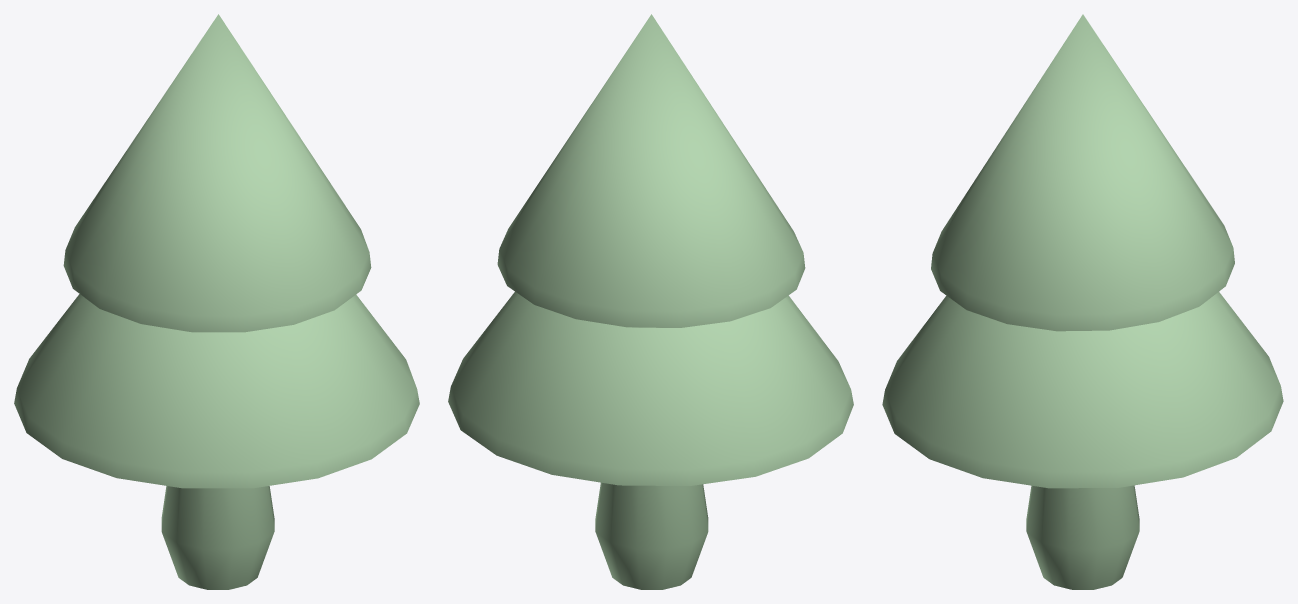
The model's file is tree_tiny.glb.
3 views of the same model, side by side, from view 1: azimuth 30°, elevation 25°; view 2: azimuth 150°, elevation 25°; view 3: azimuth 270°, elevation 25° (orthographic).
Parts seen in each view (by area): view 1: tree; view 2: tree; view 3: tree.
Part boxes in pixels (x1,y1,x2,y2): tree: (14,14,419,589); tree: (448,14,853,589); tree: (882,14,1283,589).
Size of the model in its own units: 2.28 by 3.49 by 2.27.
